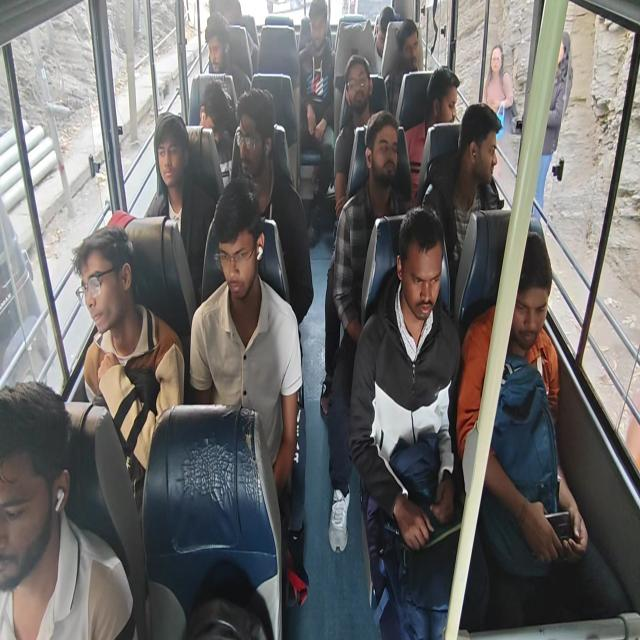person: (455, 228, 631, 628), (348, 204, 488, 638), (189, 176, 308, 604), (320, 109, 413, 553), (0, 379, 135, 639), (72, 224, 184, 524), (229, 87, 314, 326), (421, 102, 505, 305), (144, 111, 216, 302), (298, 0, 335, 244), (404, 65, 460, 201), (532, 30, 572, 217), (333, 54, 375, 220), (202, 11, 250, 99), (198, 79, 237, 185), (383, 18, 420, 116), (210, 0, 259, 74), (482, 43, 516, 136), (373, 5, 395, 74)
